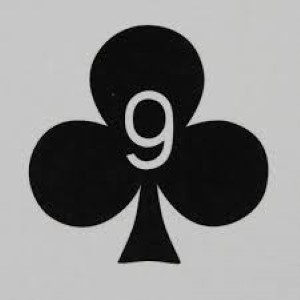NineOfClubs: (27, 17, 274, 279)
